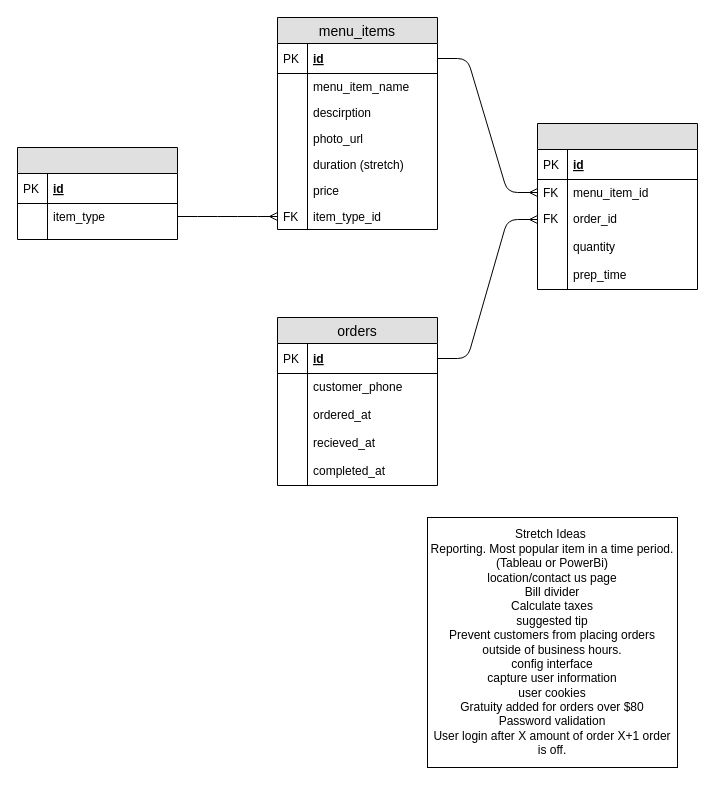
This 715x785 diagram has some shape labels left out. Each missing label, with the box of its shape:
item_types: (16, 146, 178, 240)
line_items: (536, 122, 698, 290)
